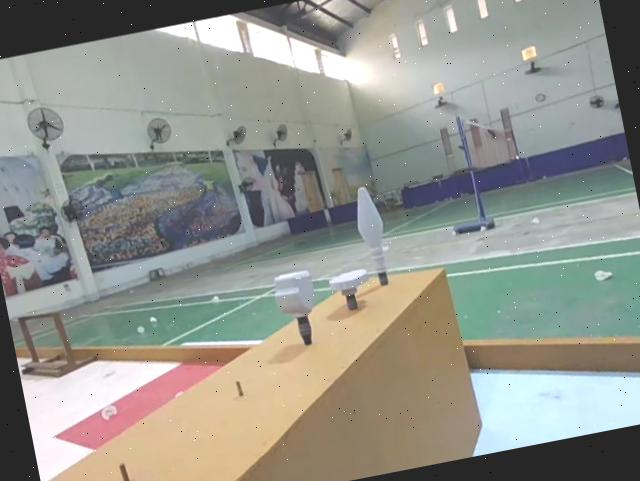Fist: (269, 263, 327, 349)
Hand: (329, 264, 373, 309)
Sph: (348, 182, 397, 290)
